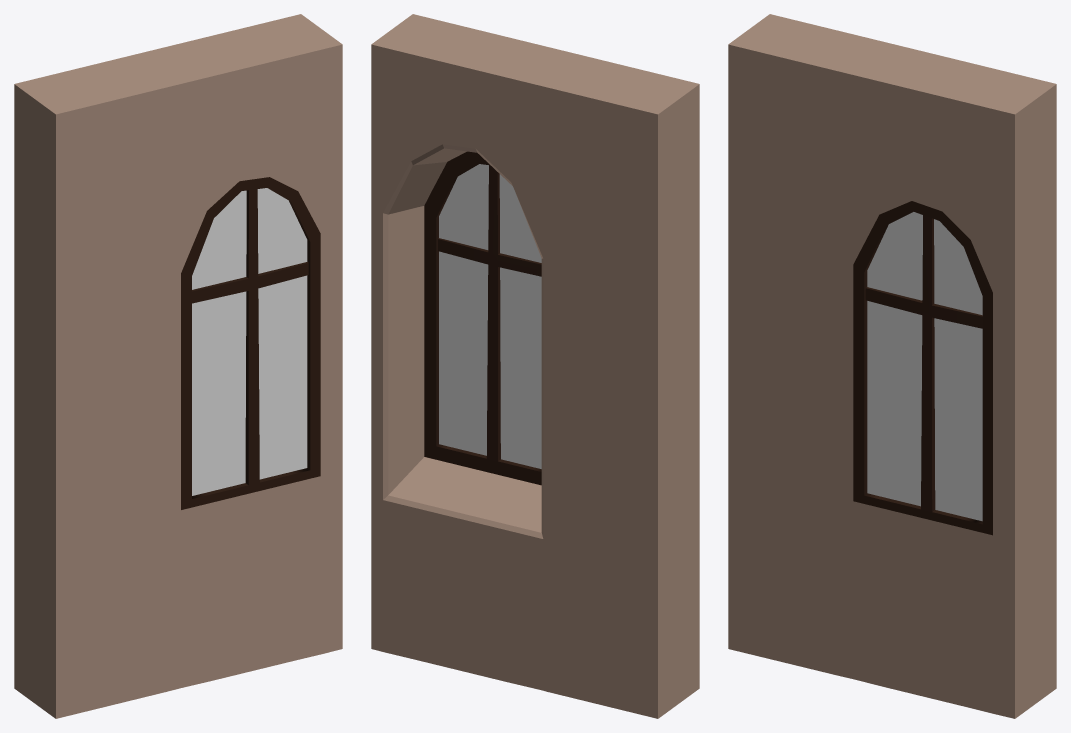
3 views of the same model, side by side, from view 1: azimuth 30°, elevation 25°; view 2: azimuth 150°, elevation 25°; view 3: azimuth 330°, elevation 25° (orthographic).
Parts seen in each view (by area): view 1: Vokzal.002, Vokzal.004, Vokzal.003; view 2: Vokzal.002, Vokzal.004, Vokzal.003; view 3: Vokzal.002, Vokzal.004, Vokzal.003.
Part boxes in pixels (bbox=[...]): Vokzal.002: bbox=[14, 14, 342, 718]; Vokzal.004: bbox=[192, 188, 307, 495]; Vokzal.003: bbox=[181, 177, 320, 509]; Vokzal.002: bbox=[371, 14, 699, 718]; Vokzal.004: bbox=[439, 164, 541, 468]; Vokzal.003: bbox=[424, 151, 541, 485]; Vokzal.002: bbox=[728, 14, 1056, 718]; Vokzal.004: bbox=[867, 212, 982, 521]; Vokzal.003: bbox=[853, 201, 992, 535].
Bounding box in the file's own units: 275 × 555 × 69.29.
